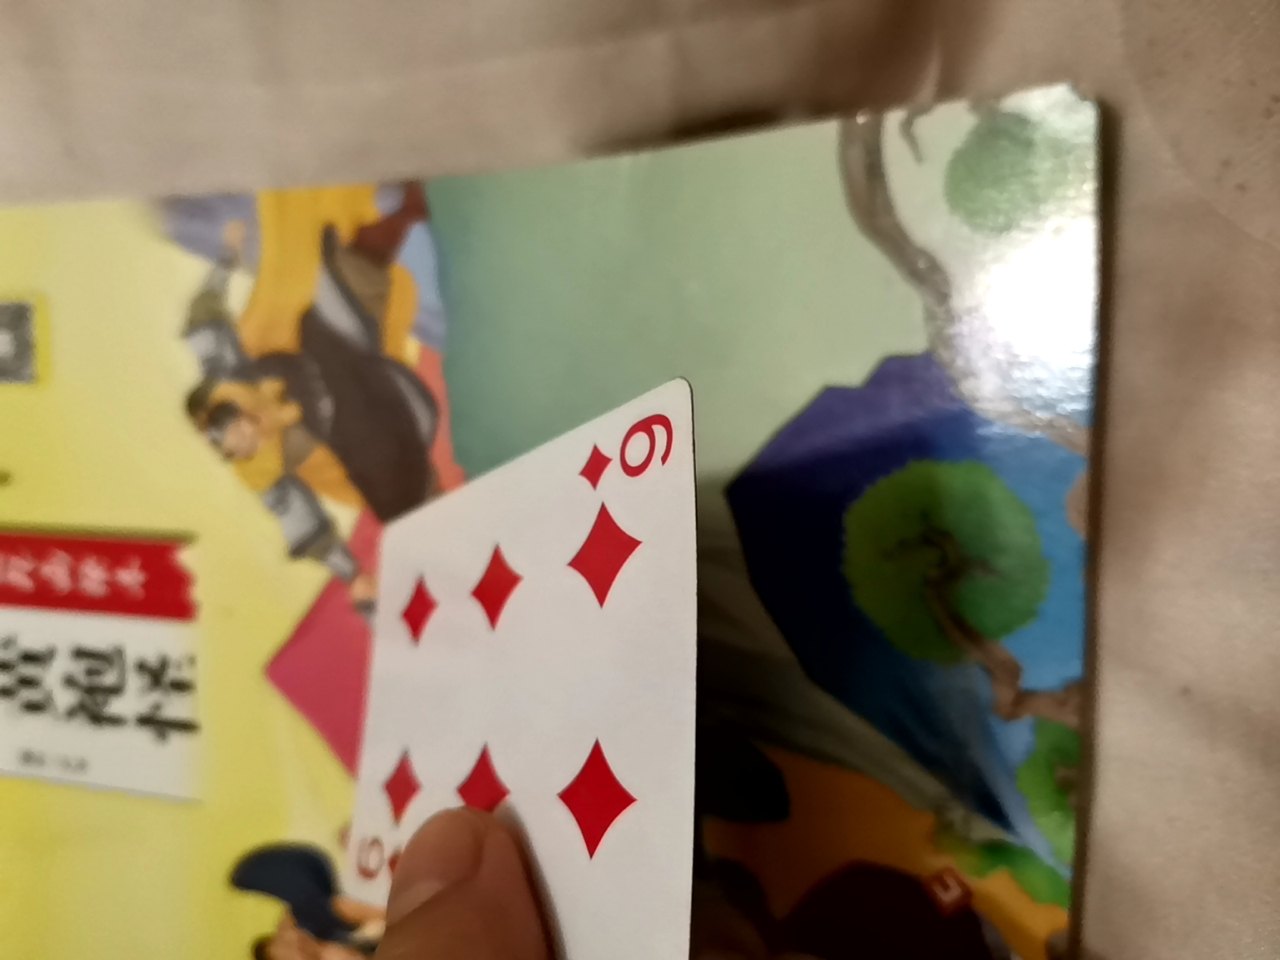fk 6: (334, 378, 695, 958)
